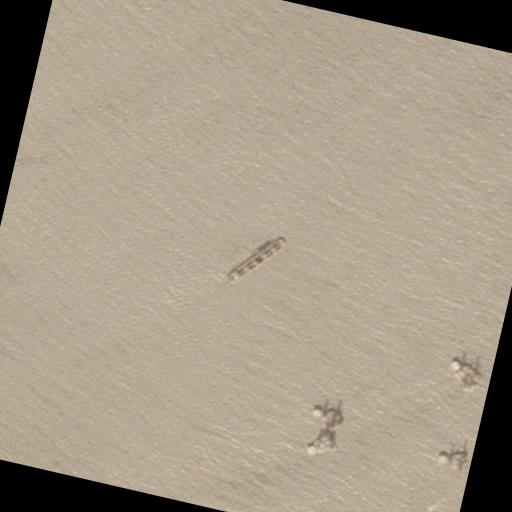ship: (227, 222, 285, 290)
